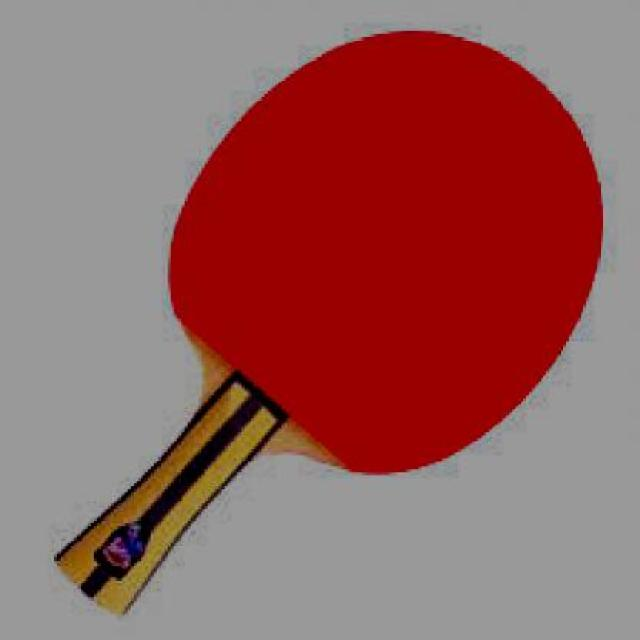table_tennis_racket: (165, 30, 607, 484)
